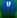blue: (0, 0, 17, 18)
